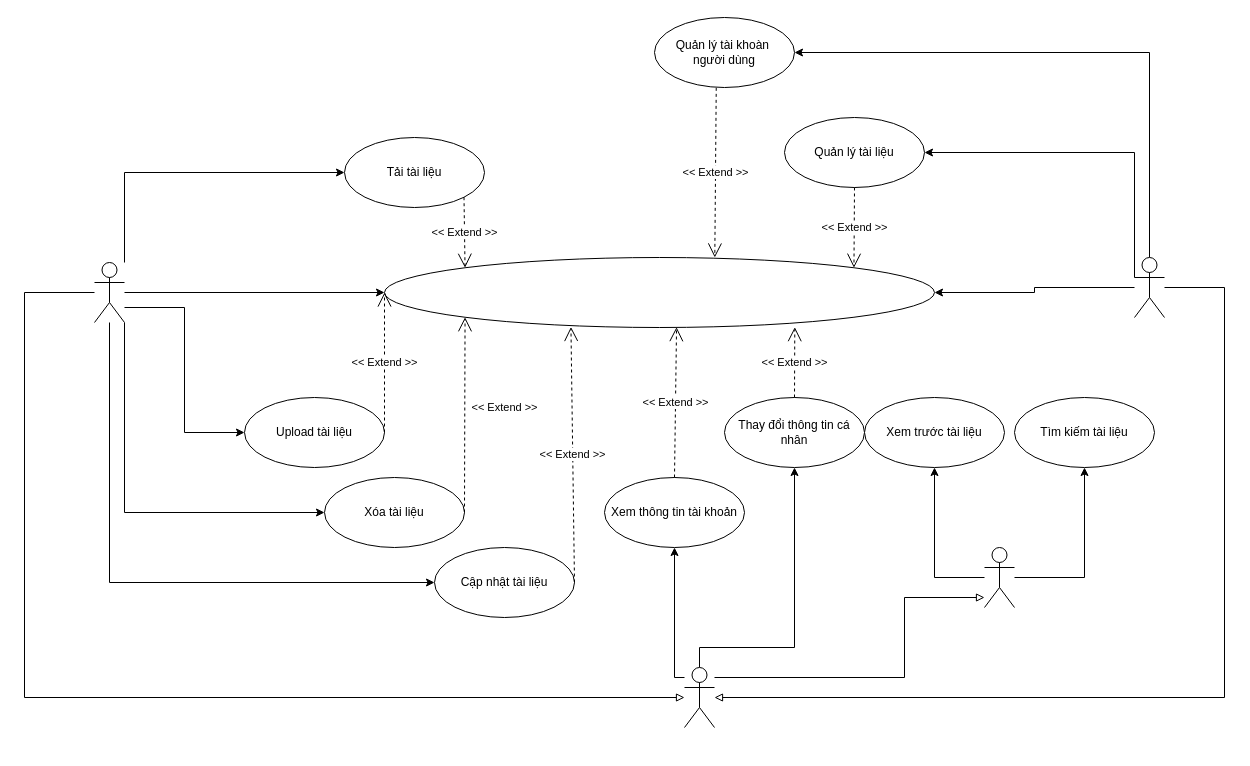
Image size: 1250x766. Some labels were removed from this diagram. The centre of each missing label's shape, as x and y in pixels:
Người dùng: the point at 109,292
Người dùng khách: the point at 999,577
Quản trị viên: the point at 1149,287
Thành viên: the point at 699,697
Đăng nhập: the point at 659,292
